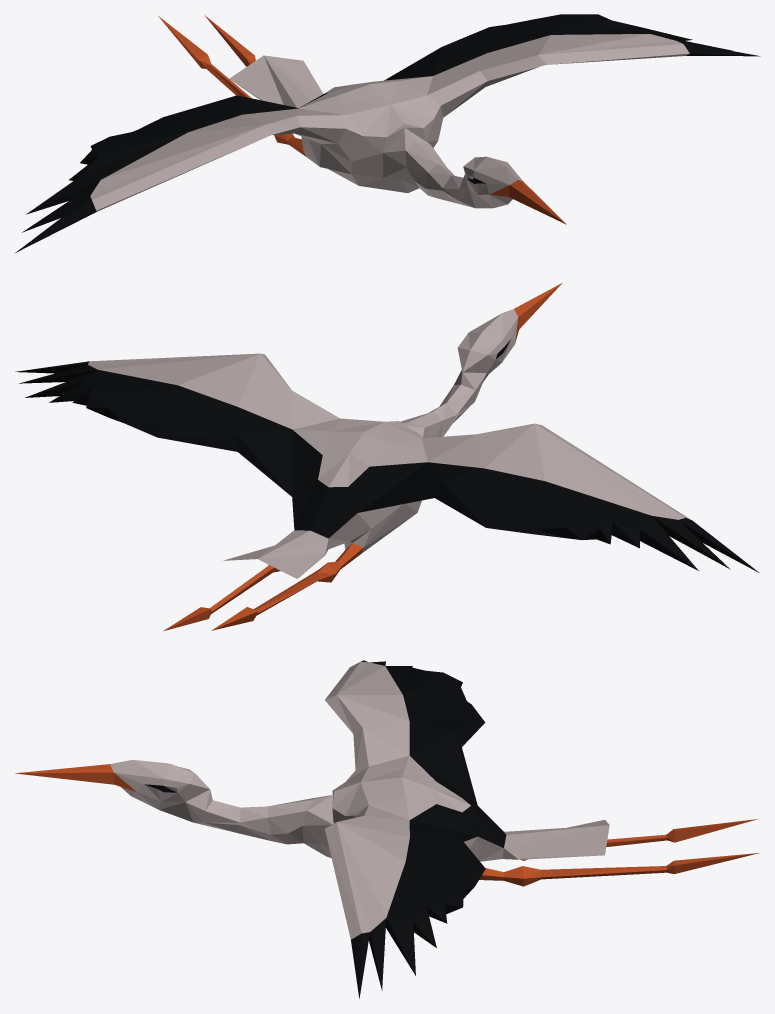
The model's file is stork.gltf.
3 views of the same model, one above another, from view 1: azimuth 30°, elevation 25°; view 2: azimuth 150°, elevation 25°; view 3: azimuth 270°, elevation 25° (orthographic). The views are drawn at different scales.
Parts seen in each view (by area): view 1: Object_0; view 2: Object_0; view 3: Object_0.
Boxes of the visible parts, x1,y1,x2,y2 form: Object_0: (15, 14, 760, 252); Object_0: (15, 283, 759, 631); Object_0: (15, 660, 759, 998).
Bounding box in the file's own units: 5.9 × 0.897 × 5.23.
